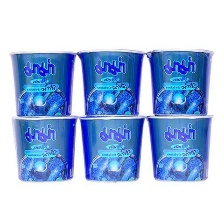paper_cup: (141, 43, 217, 120), (73, 43, 149, 120), (5, 44, 80, 120), (8, 111, 83, 185), (142, 111, 216, 185), (75, 110, 148, 185)
